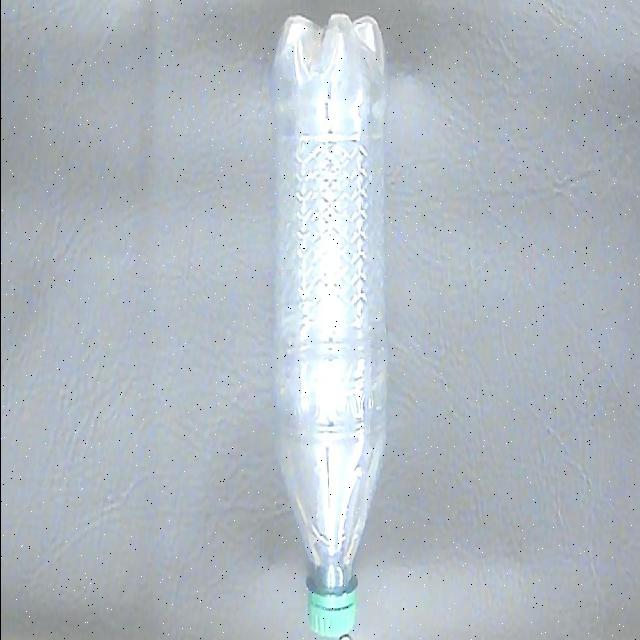plastic: (268, 12, 392, 636)
